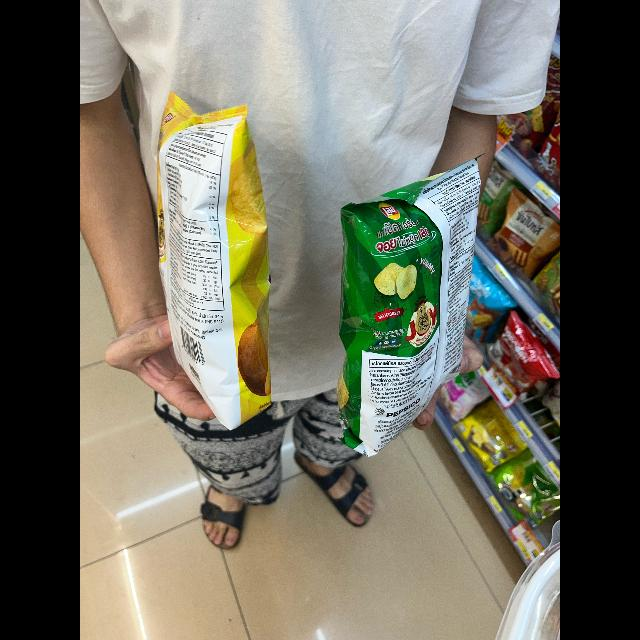snack_bag: (128, 77, 296, 426), (320, 148, 504, 460)
